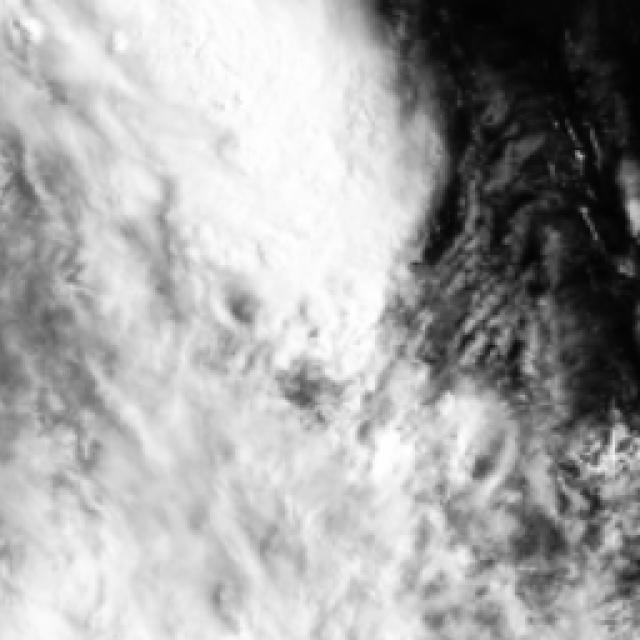CB: (156, 7, 345, 168), (238, 101, 361, 272)
